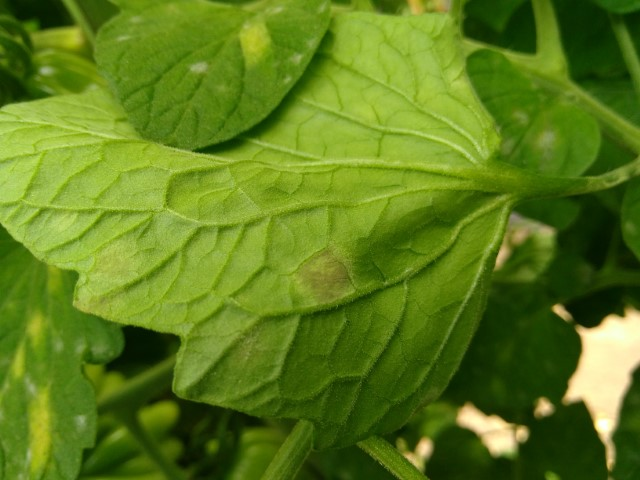cladosporium: (299, 249, 361, 305)
